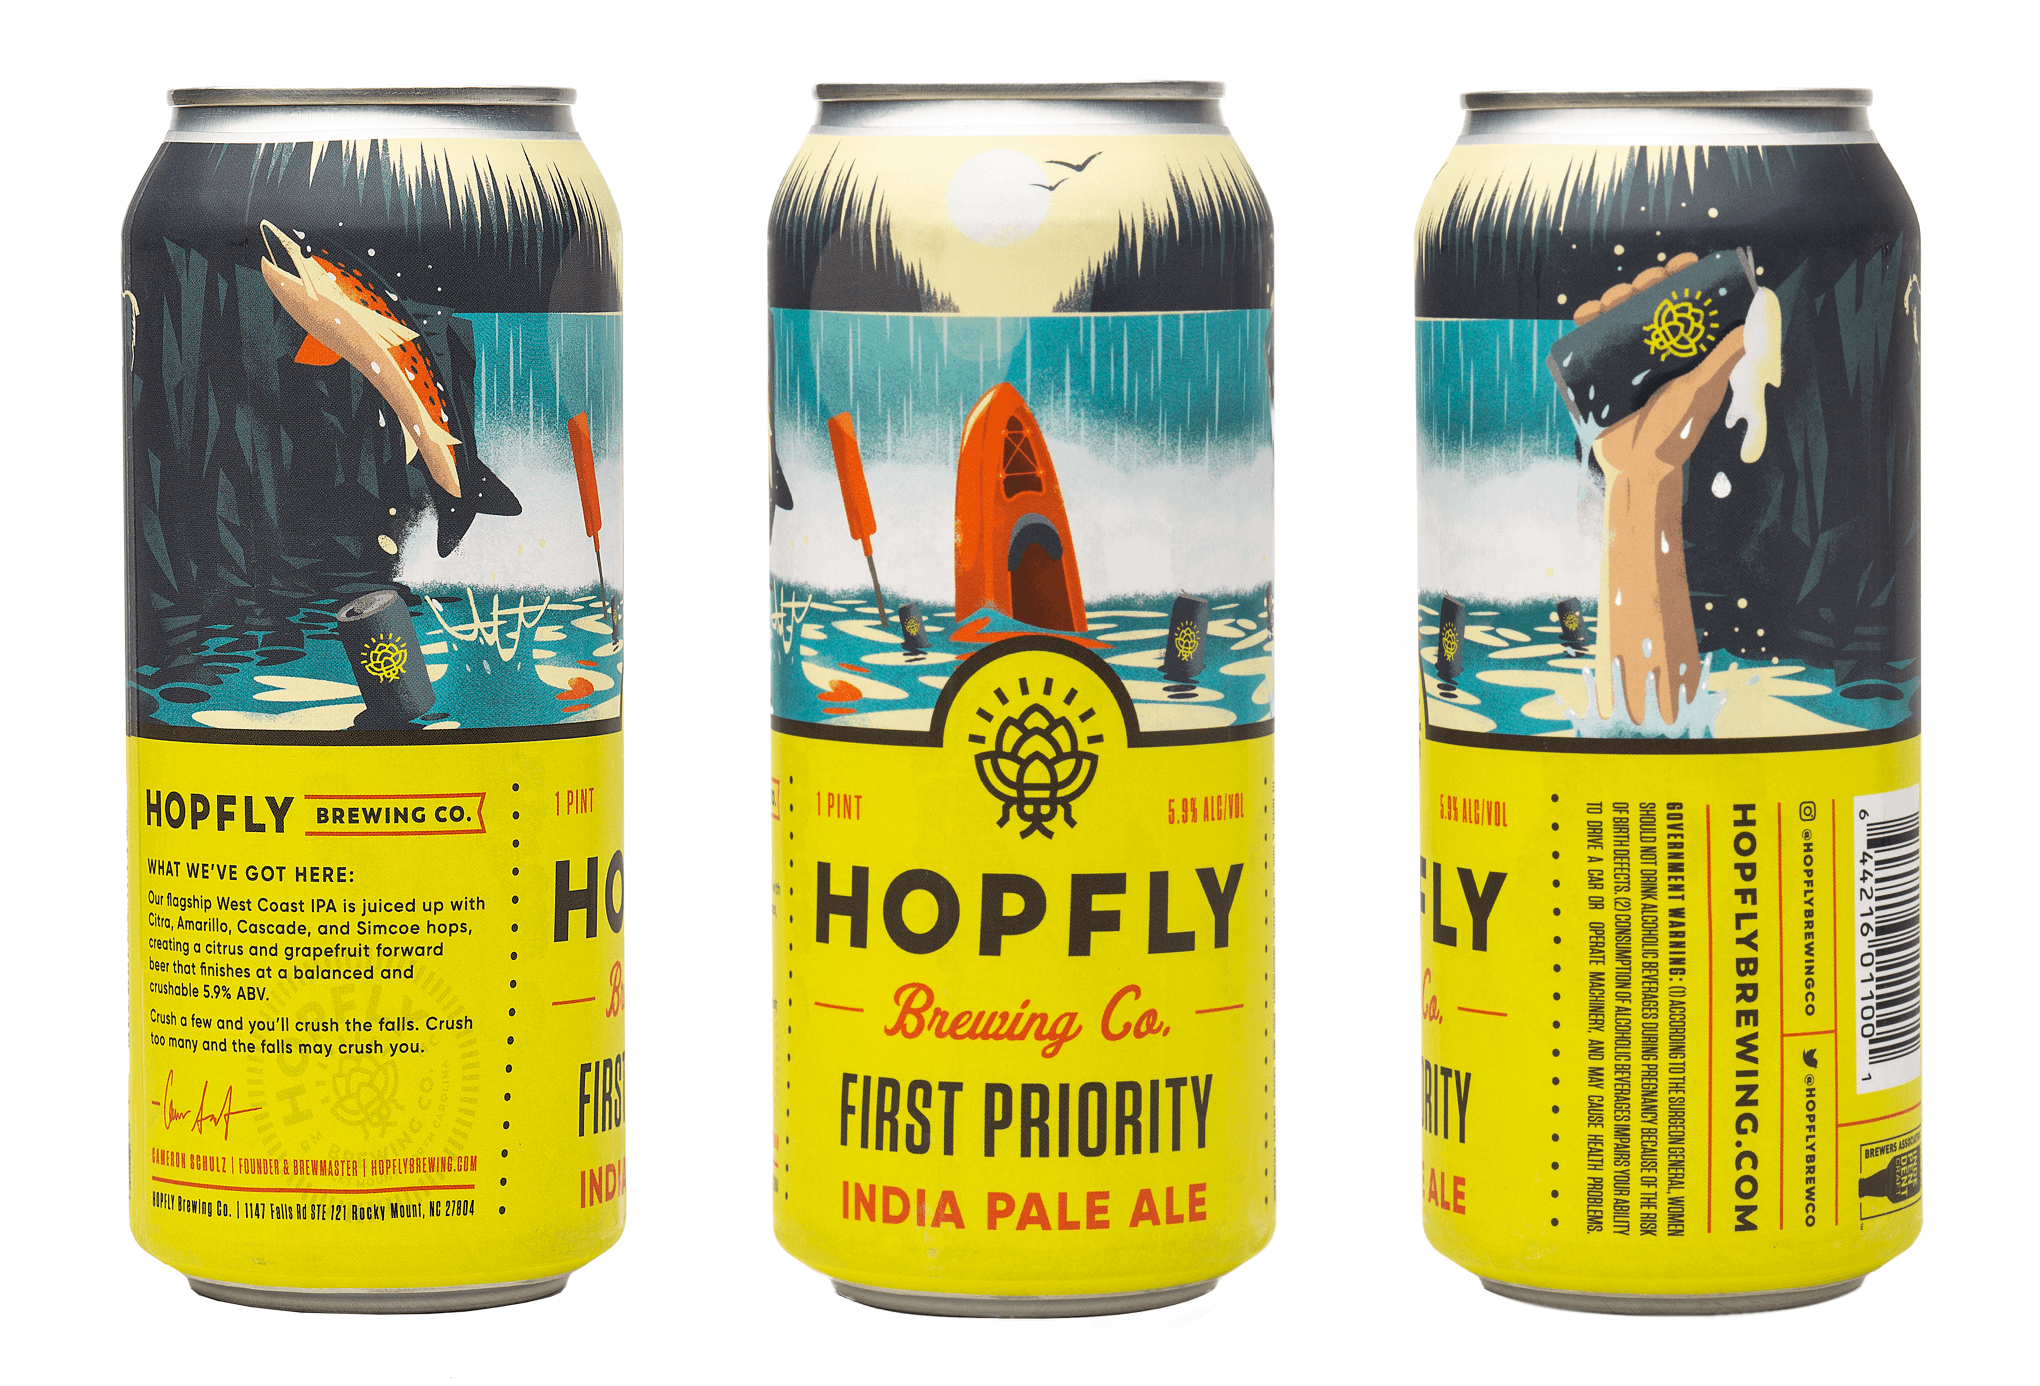beer can: (767, 63, 1298, 1327), (116, 59, 653, 1304), (1411, 87, 1930, 1316)
